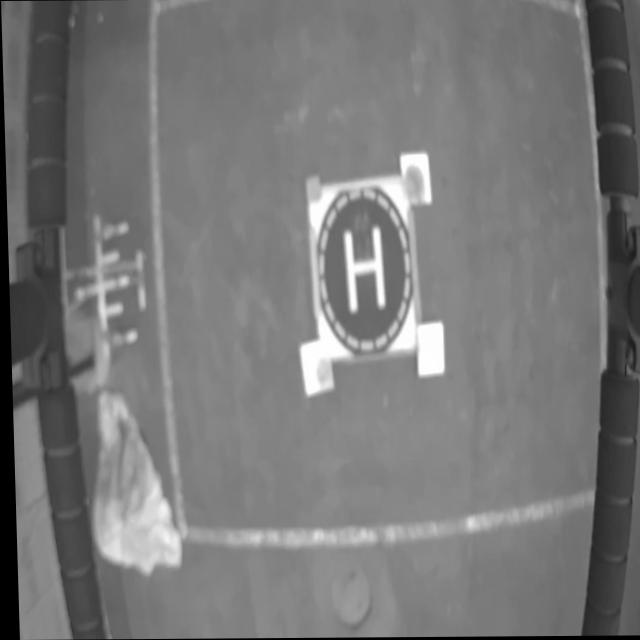Helipad: (340, 224, 383, 314)
